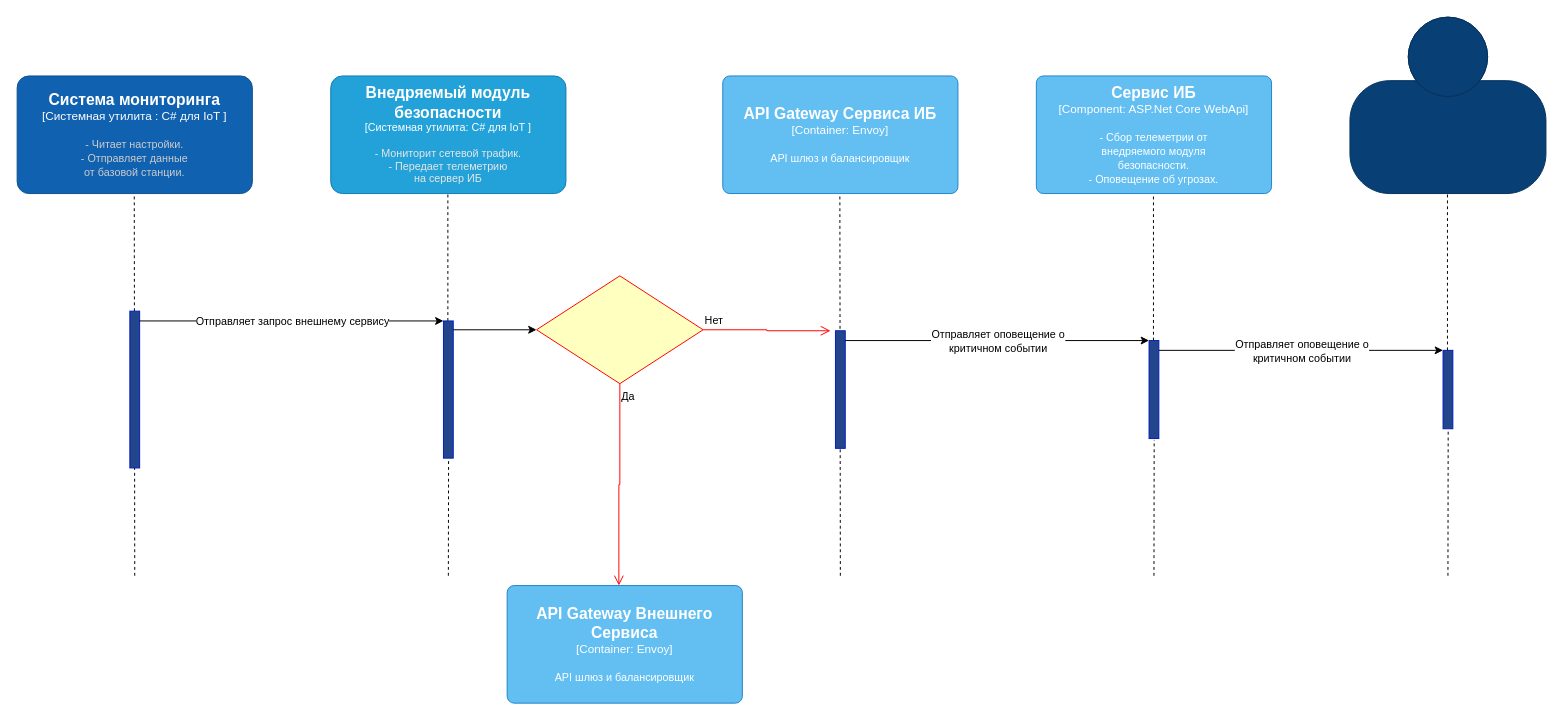
Some shapes in this 1563 by 720 pixel diagram are drawn without their labels. Each missing label, with the box of its shape:
Запрос прошел проверку?: (536, 275, 703, 384)
Инженер ИБ [Person] Реагирует на предупреждения об угрозах.: (1349, 16, 1546, 194)
